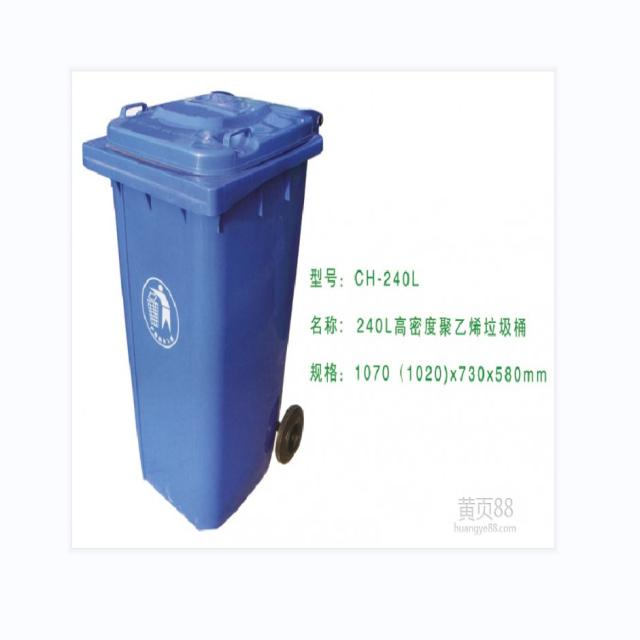garbage_bin: (81, 89, 323, 528)
